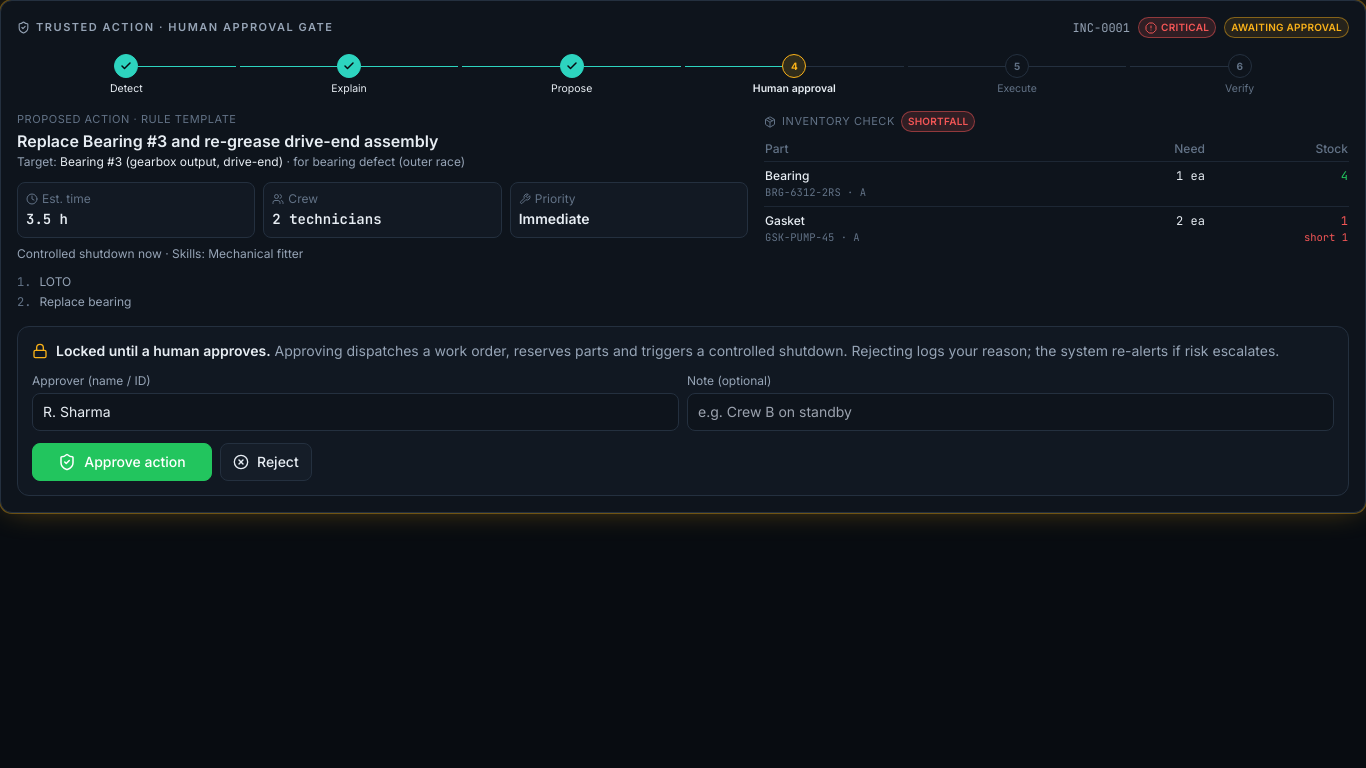
Scenario: ActionPanel approval gate › surfaces server errors
Click the button "Approve action".
click(122, 462)  # box x1=32 y1=443 x2=212 y2=481
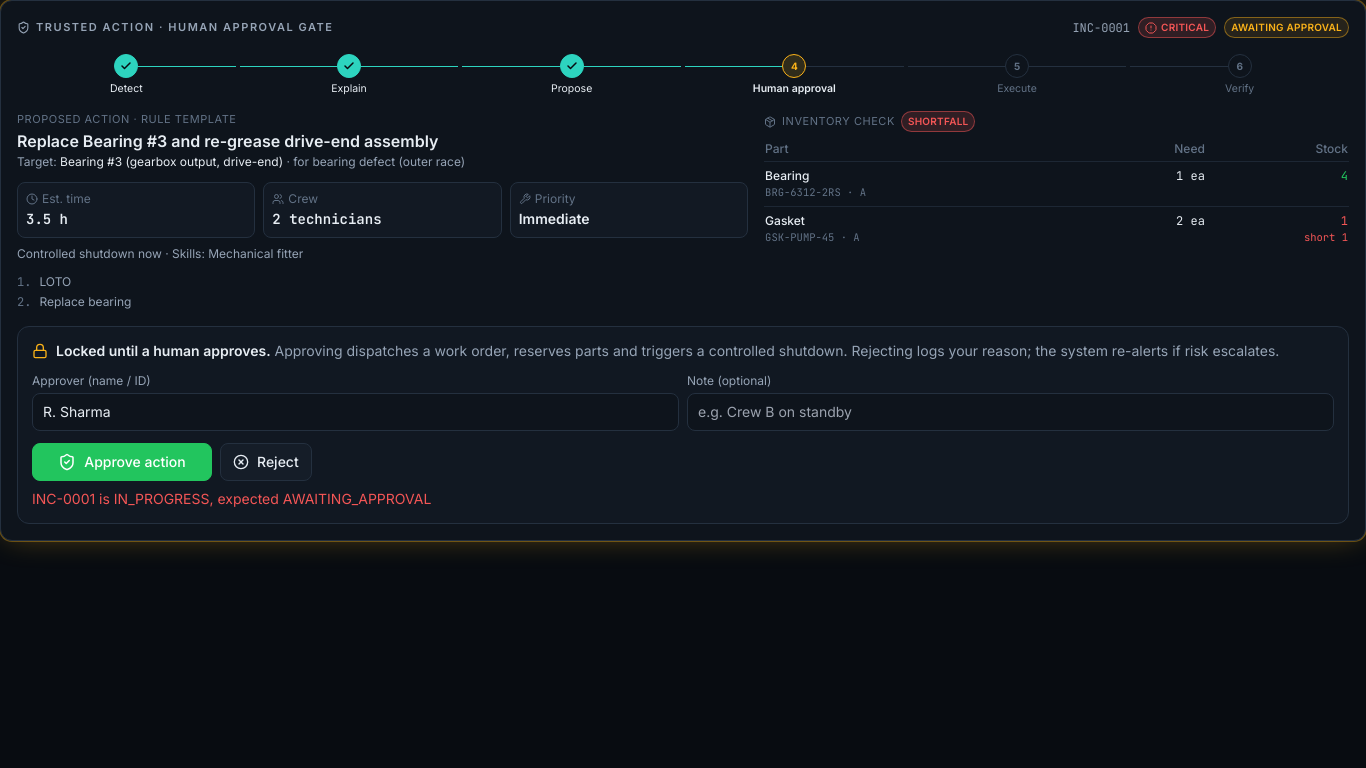
Expected: the message shows "expected AWAITING_APPROVAL", x1=32 y1=490 x2=431 y2=507
